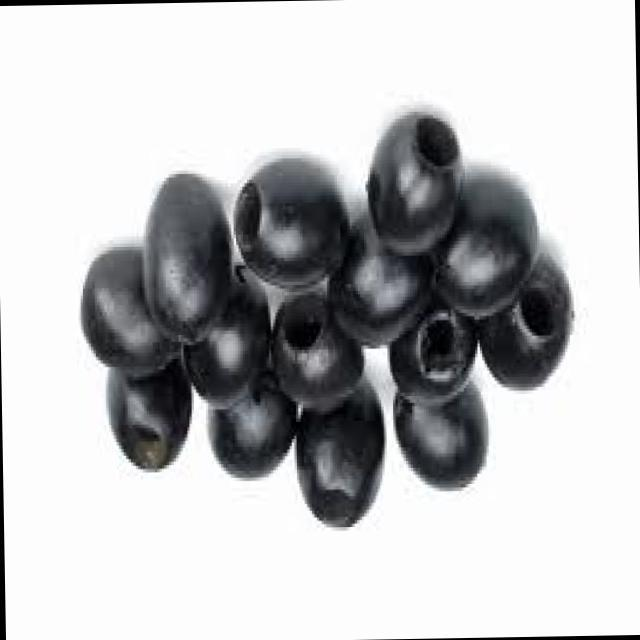Olives: (41, 84, 625, 563)
